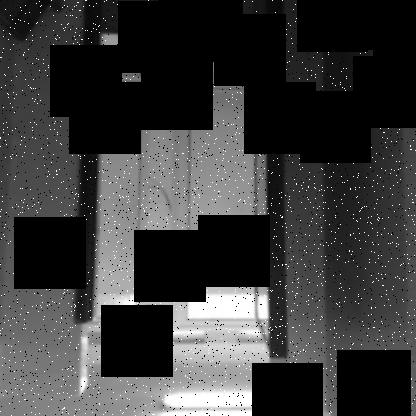Porte: (74, 1, 287, 360)
